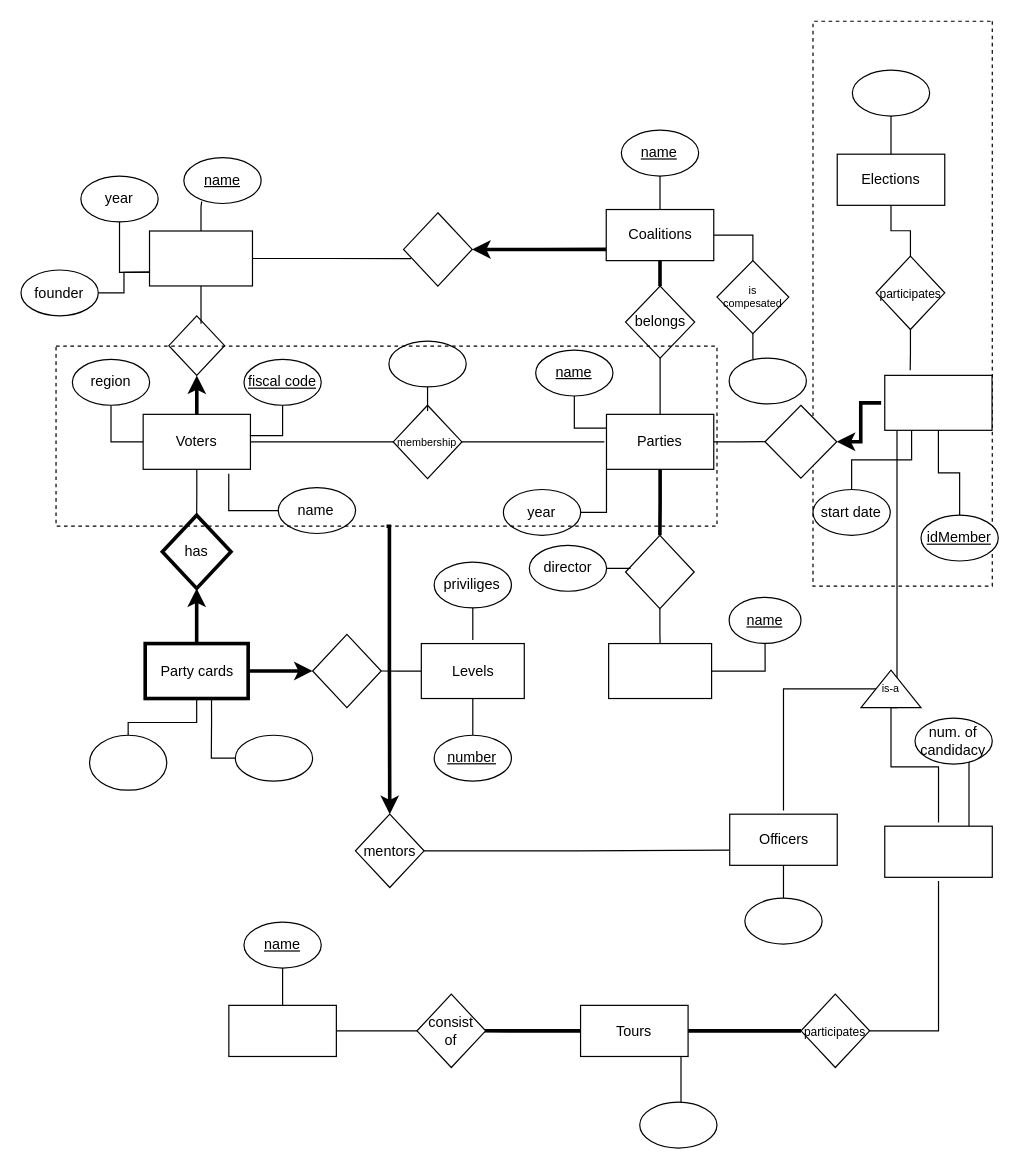
Some shapes in this 1020 by 1170 pixel diagram are drawn without their labels. The box of each missing label's shape, as (x1, y1, x2, y2) in pixels:
amount: (728, 357, 806, 404)
based on: (402, 212, 472, 286)
Candidates: (884, 825, 992, 877)
code of election: (851, 69, 930, 116)
Commitee members: (884, 374, 992, 430)
date: (388, 340, 466, 387)
have: (764, 404, 837, 478)
Ideologies: (148, 230, 252, 286)
leveled: (311, 633, 381, 708)
Locations: (228, 1004, 336, 1056)
organized: (624, 534, 694, 609)
party name: (234, 734, 313, 781)
seniority level: (744, 897, 822, 944)
sequential number: (88, 734, 167, 790)
starting date: (639, 1101, 717, 1148)
thinks: (168, 315, 225, 375)
Wings: (607, 642, 712, 699)
